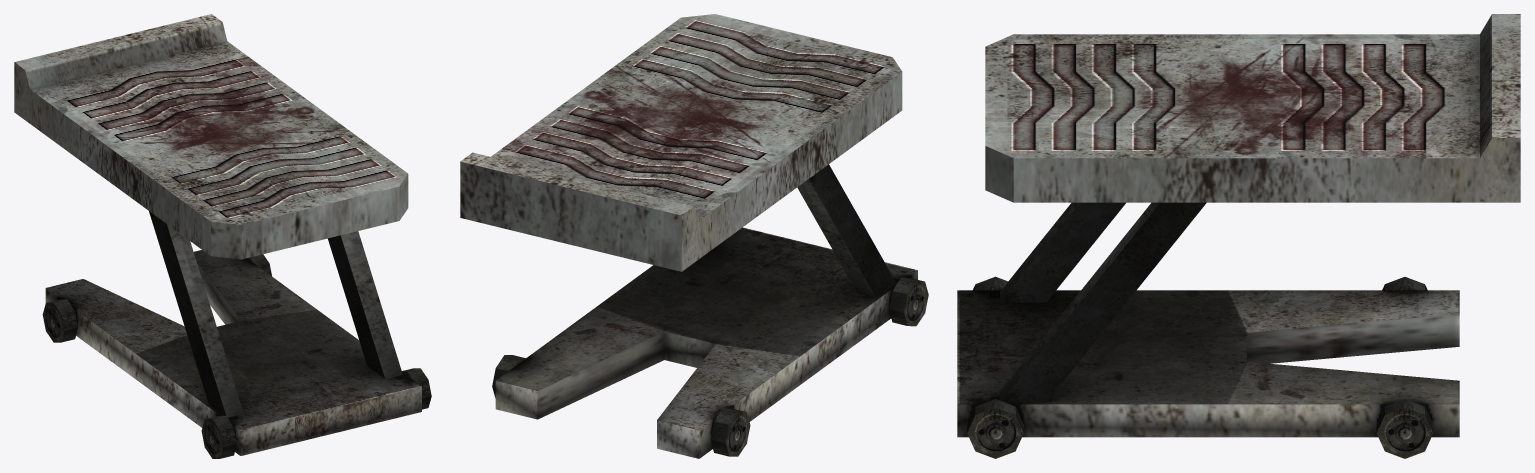
File: CubeBaseFrontAdorno2.fbx
3 views of the same model, side by side, from view 1: azimuth 30°, elevation 25°; view 2: azimuth 150°, elevation 25°; view 3: azimuth 270°, elevation 25° (orthographic). The views are drawn at different scales.
Parts seen in each view (by area): view 1: Box05, Box03, Box04, Duplicate01, Duplicate02, Cylinder04, Duplicate03; view 2: Box05, Box03, Box04, Cylinder04, Duplicate02; view 3: Box05, Box03, Duplicate01, Box04, Duplicate04, Duplicate03.
Boxes of the visible parts, x1=… form: Box05: x1=14, y1=14, x2=408, y2=259; Box03: x1=45, y1=250, x2=421, y2=455; Box04: x1=149, y1=211, x2=243, y2=417; Duplicate01: x1=327, y1=231, x2=402, y2=379; Duplicate02: x1=42, y1=299, x2=77, y2=342; Cylinder04: x1=201, y1=415, x2=236, y2=458; Duplicate03: x1=402, y1=368, x2=431, y2=409; Box05: x1=460, y1=14, x2=902, y2=271; Box03: x1=495, y1=227, x2=917, y2=458; Box04: x1=797, y1=164, x2=896, y2=297; Cylinder04: x1=889, y1=277, x2=928, y2=326; Duplicate02: x1=710, y1=408, x2=750, y2=456; Box05: x1=985, y1=14, x2=1520, y2=202; Box03: x1=957, y1=290, x2=1459, y2=437; Duplicate01: x1=1000, y1=202, x2=1206, y2=402; Box04: x1=1000, y1=202, x2=1125, y2=302; Duplicate04: x1=1376, y1=399, x2=1433, y2=458; Duplicate03: x1=967, y1=399, x2=1023, y2=458.
Size of the model in its own units: 0.7952 by 0.8994 by 1.45.
Materials: 1 (1 with a texture image).
